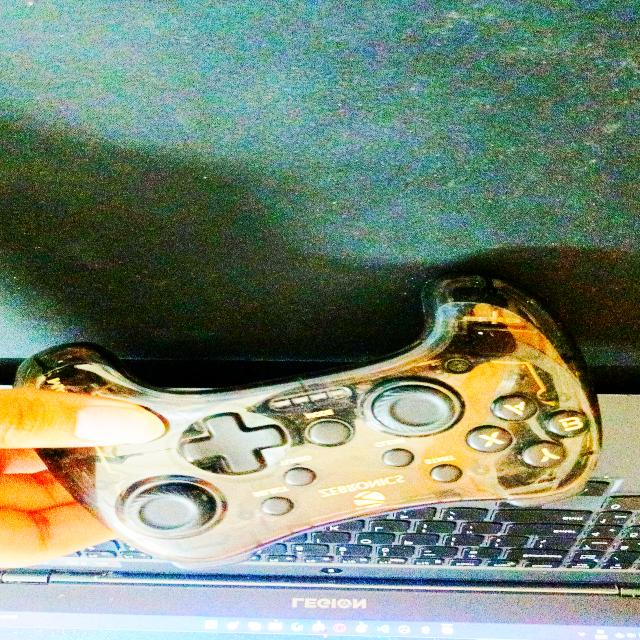gamepad: (11, 271, 603, 570)
